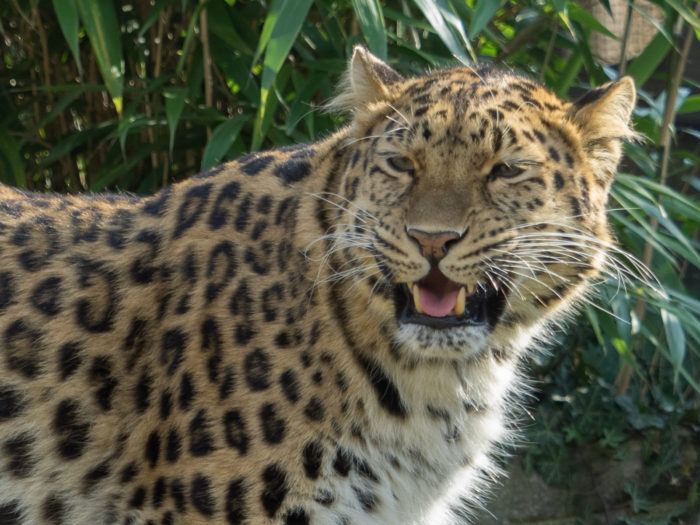amur_leopard: (168, 28, 639, 467)
